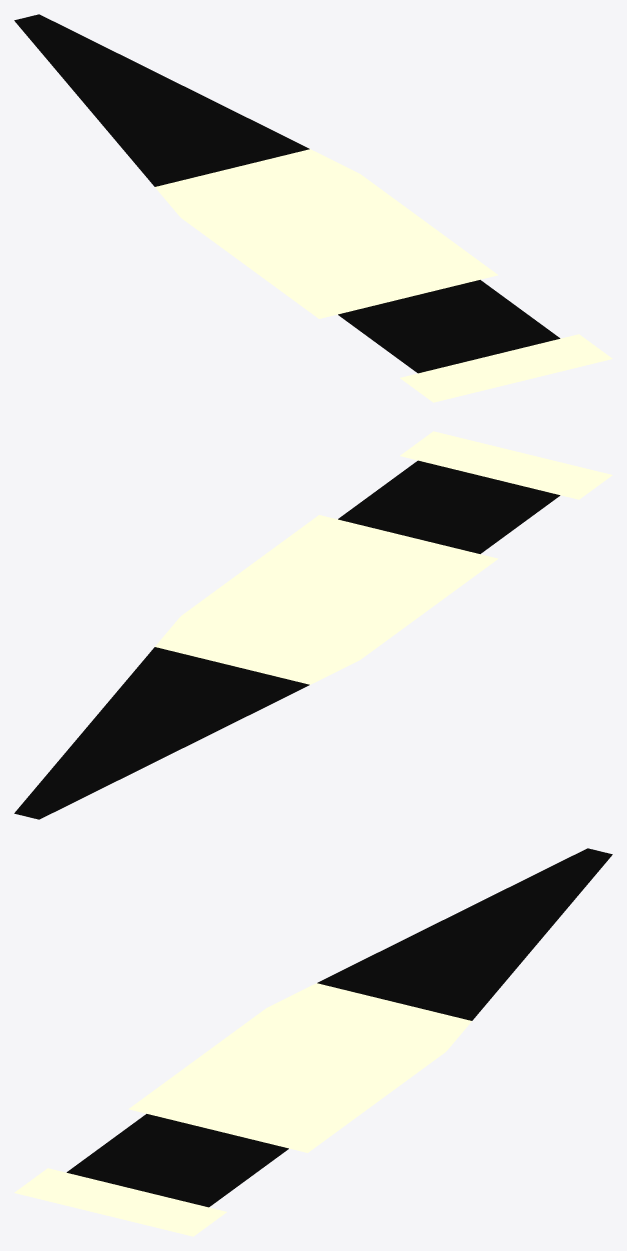
The picture shows the model from 3 angles, top to bottom: view 1: azimuth 30°, elevation 25°; view 2: azimuth 150°, elevation 25°; view 3: azimuth 330°, elevation 25°; orthographic projection.
Parts seen in each view (by area): view 1: AP 13.45; view 2: AP 13.45; view 3: AP 13.45.
Boxes of the visible parts, x1,y1,x2,y2 form: AP 13.45: [14, 14, 612, 402]; AP 13.45: [14, 431, 612, 819]; AP 13.45: [14, 848, 612, 1236].
Bounding box in the file's own units: 0.0168 × 1.31e-08 × 0.0804.
